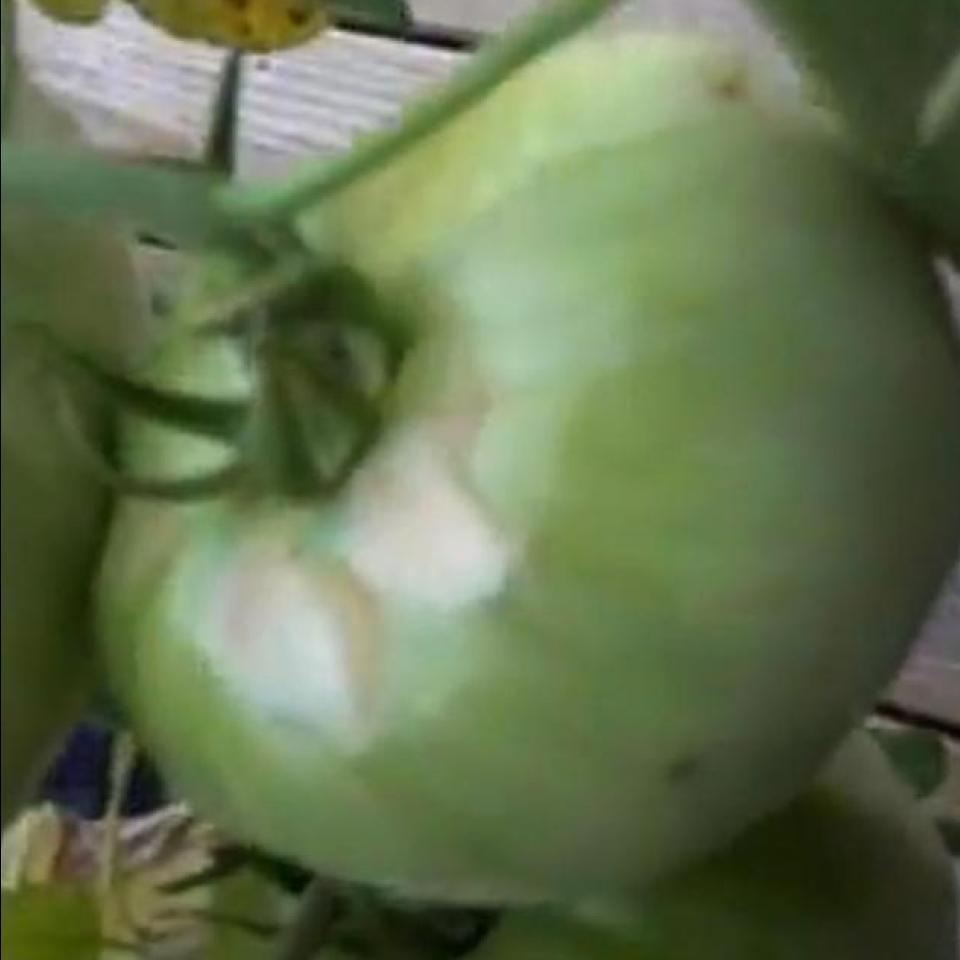Sunscald: (184, 375, 553, 799)
